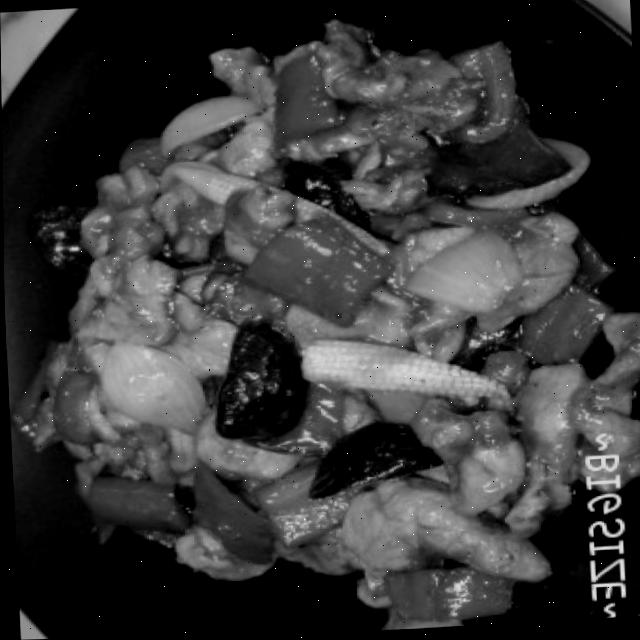牛肉菜式: (2, 0, 612, 640)
